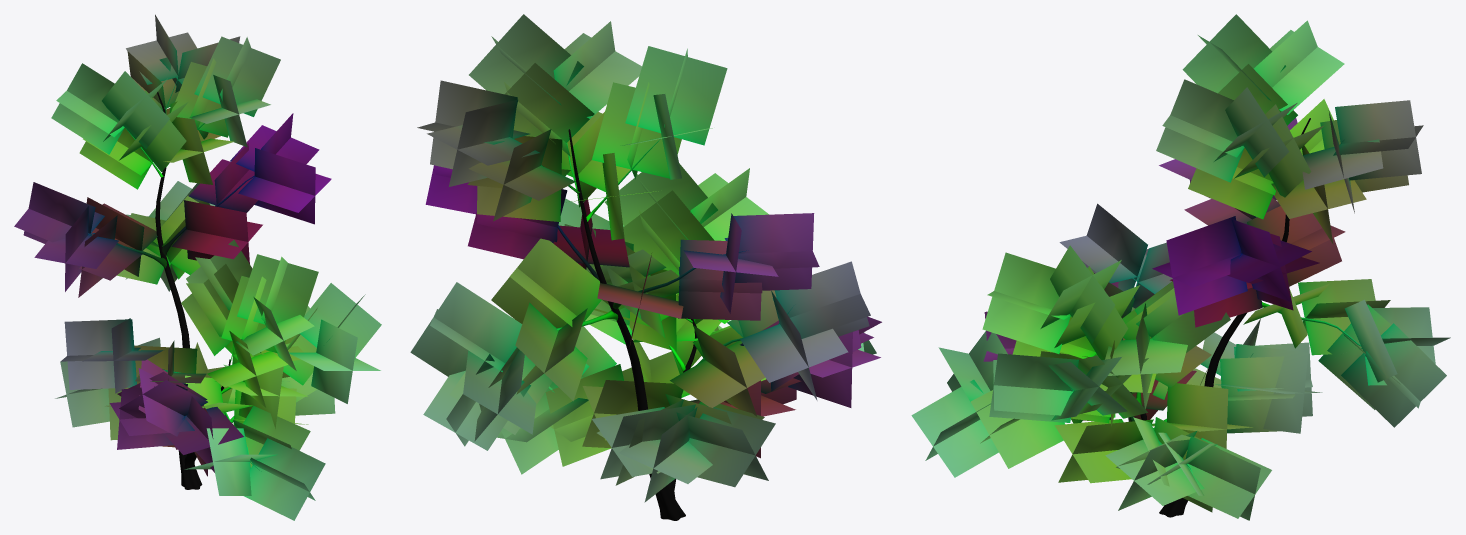
The model's file is URP_P3_Tree_5_LOD_0.fbx.
The picture shows the model from 3 angles, left to right: view 1: azimuth 30°, elevation 25°; view 2: azimuth 150°, elevation 25°; view 3: azimuth 270°, elevation 25°; orthographic projection. The views are drawn at different scales.
Parts seen in each view (by area): view 1: Tree_5_LOD_0; view 2: Tree_5_LOD_0; view 3: Tree_5_LOD_0.
Boxes of the visible parts, bbox=[...] form: Tree_5_LOD_0: bbox=[14, 14, 381, 520]; Tree_5_LOD_0: bbox=[410, 14, 881, 520]; Tree_5_LOD_0: bbox=[911, 14, 1450, 520].
Size of the model in its own units: 559 by 725 by 747.
